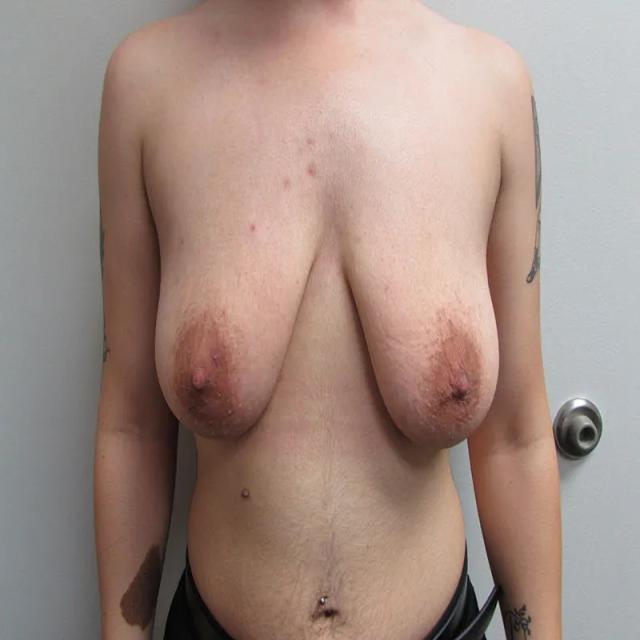Seno ileso: (143, 186, 324, 455), (333, 187, 509, 463)
